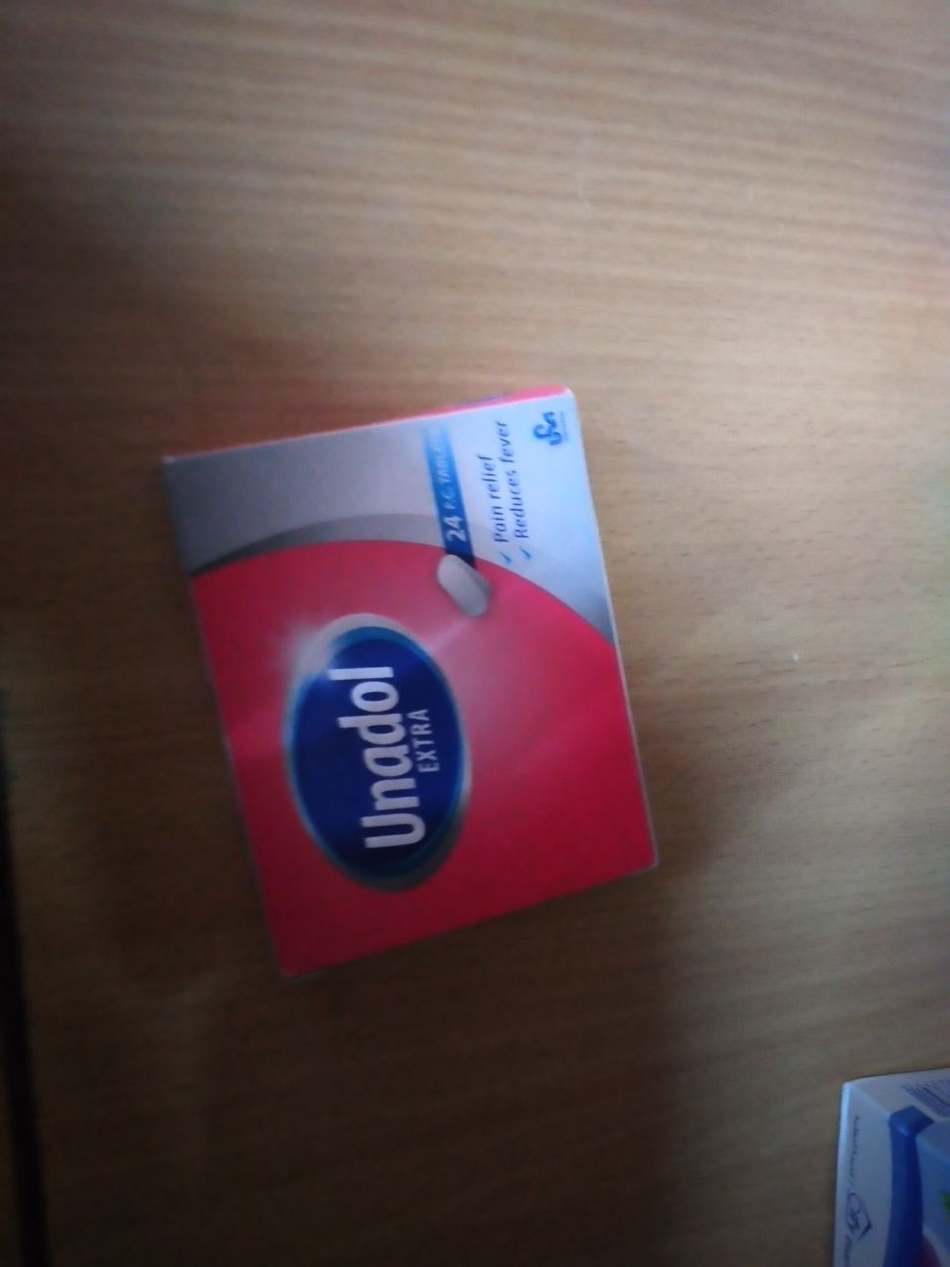Medicine: (162, 373, 696, 993)
